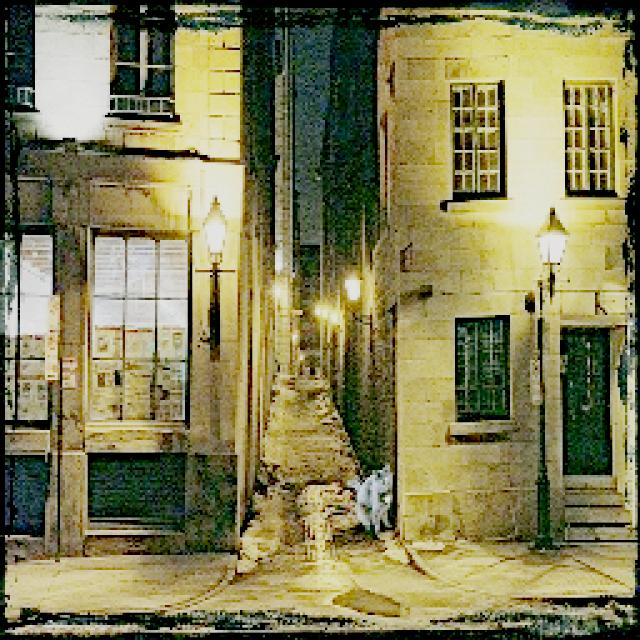cat: (347, 466, 398, 535)
